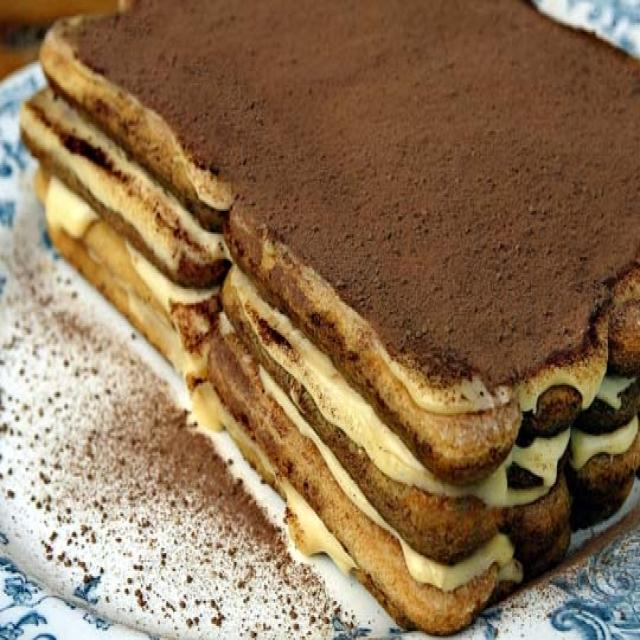蛋糕甜品: (6, 5, 635, 631)
